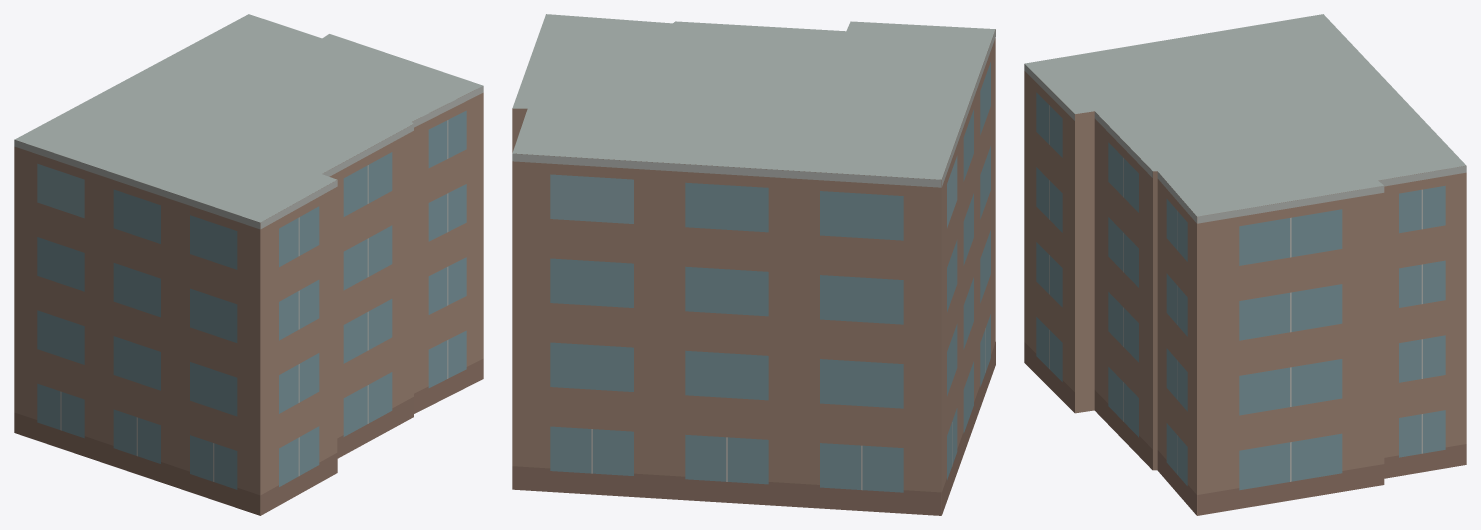
Rendered from survey-upis-32845564.glb.
The picture shows the model from 3 angles, left to right: view 1: azimuth 30°, elevation 25°; view 2: azimuth 150°, elevation 25°; view 3: azimuth 270°, elevation 25°; orthographic projection. The views are drawn at different scales.
Parts seen in each view (by area): view 1: survey-upis-32845564.tmp; view 2: survey-upis-32845564.tmp; view 3: survey-upis-32845564.tmp.
Part boxes in pixels (left/top/right/bottom): survey-upis-32845564.tmp: left=14, top=14, right=483, bottom=515; survey-upis-32845564.tmp: left=512, top=14, right=995, bottom=515; survey-upis-32845564.tmp: left=1024, top=14, right=1466, bottom=515.
Size of the model in its own units: 15.12 by 10.4 by 13.94.
